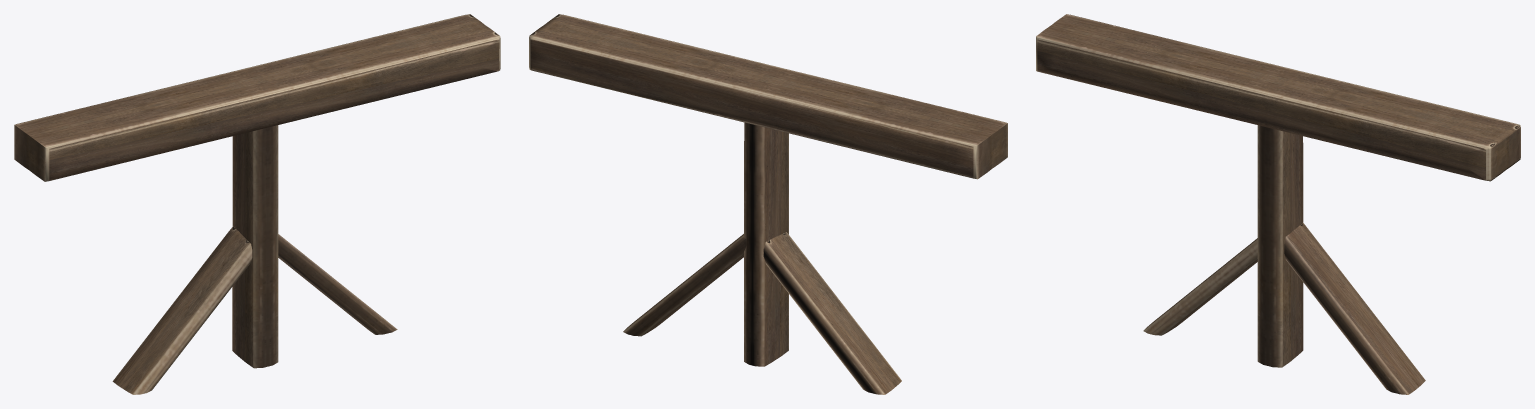
File: Bannister.FBX
3 views of the same model, side by side, from view 1: azimuth 30°, elevation 25°; view 2: azimuth 150°, elevation 25°; view 3: azimuth 330°, elevation 25° (orthographic).
Visible parts, largest first — view 1: Bannister; view 2: Bannister; view 3: Bannister.
Boxes of the visible parts, x1,y1,x2,y2 form: Bannister: (14, 14, 500, 394); Bannister: (529, 14, 1007, 394); Bannister: (1036, 14, 1520, 394).
Size of the model in its own units: 233 by 136 by 29.92.
